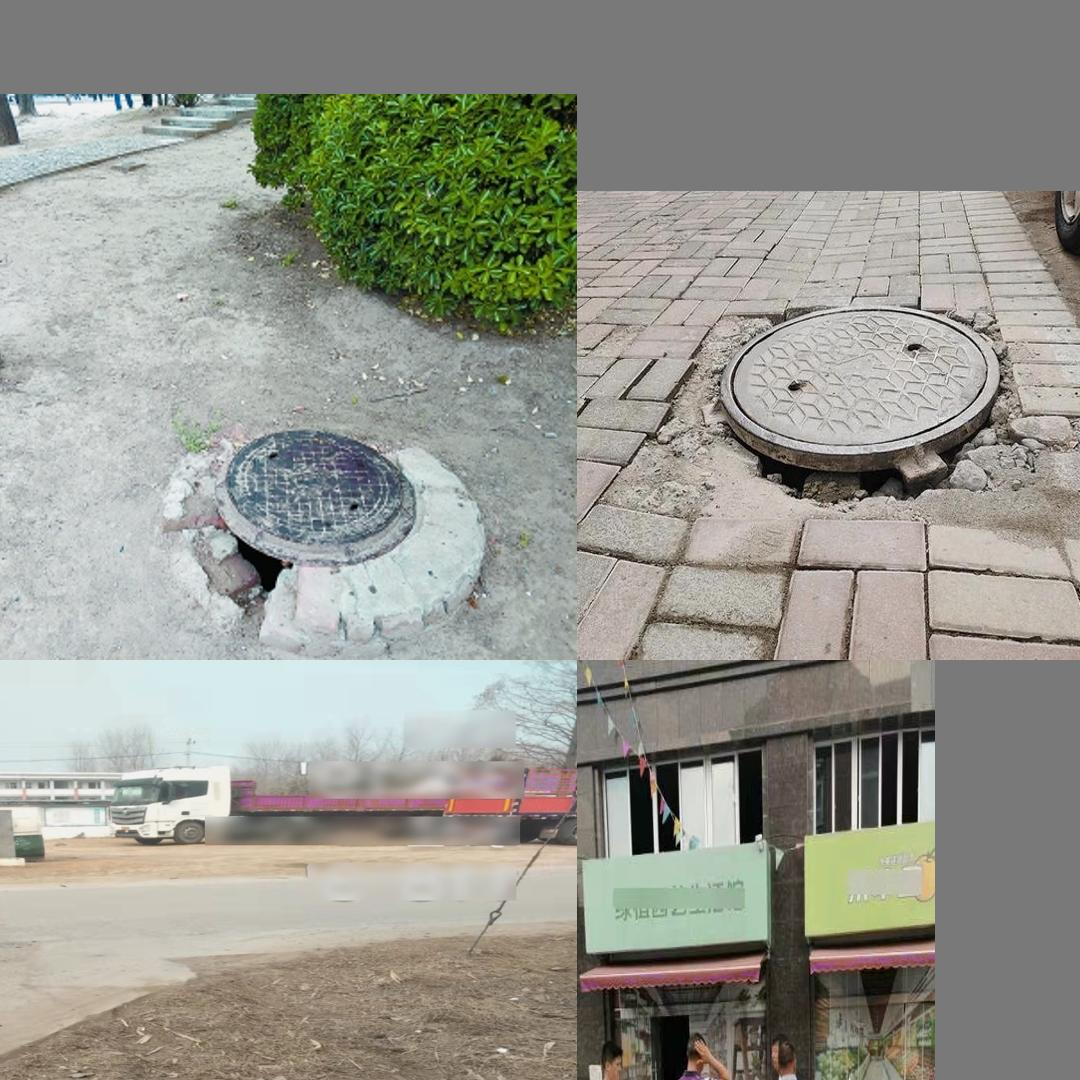circle: (615, 292, 1051, 548), (144, 421, 494, 633)
